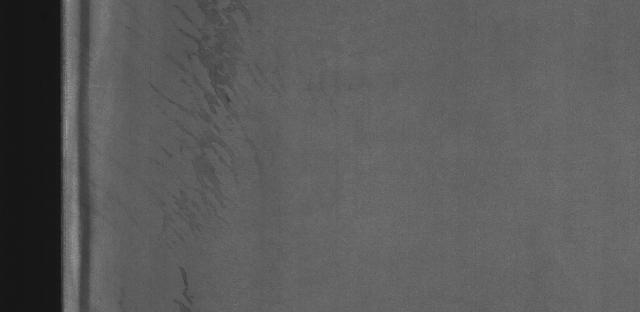water_spot: (156, 3, 269, 242)
